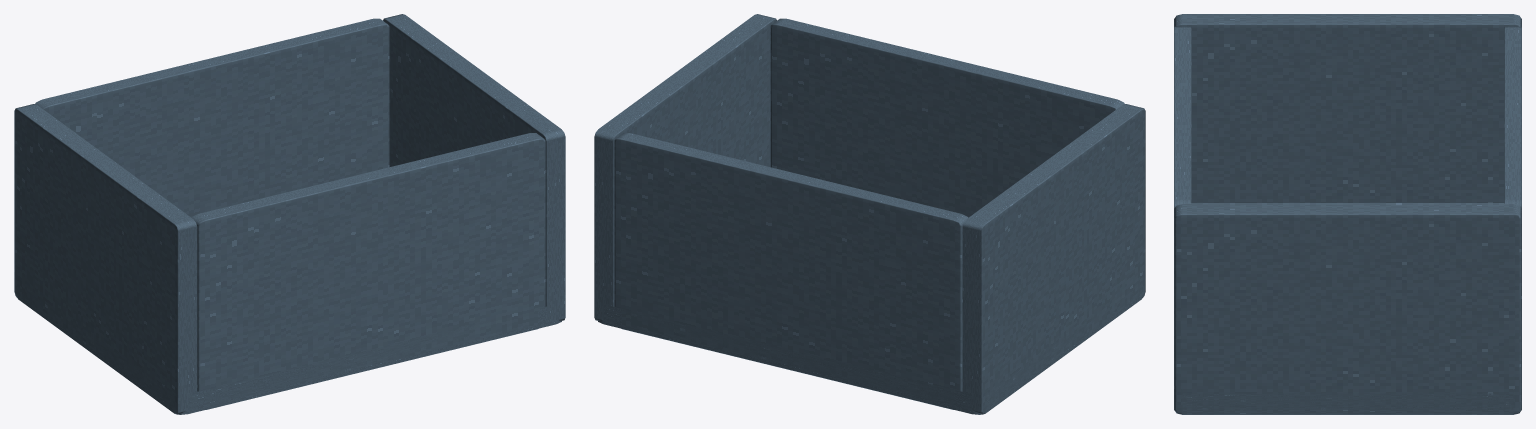
Rendered from disinfect-tray.glb.
3 views of the same model, side by side, from view 1: azimuth 30°, elevation 25°; view 2: azimuth 150°, elevation 25°; view 3: azimuth 270°, elevation 25° (orthographic). The views are drawn at different scales.
Visible parts, largest first — view 1: edge (×2), side (×2), bottom; view 2: edge (×2), side (×2), bottom; view 3: side (×2), bottom, edge (×2).
Boxes of the visible parts, <box> form: edge (×2): <box>35,18,546,409</box>; side (×2): <box>14,14,565,414</box>; bottom: <box>18,285,561,414</box>; edge (×2): <box>613,18,1124,409</box>; side (×2): <box>594,14,1145,414</box>; bottom: <box>598,284,1141,414</box>; side (×2): <box>1174,14,1521,414</box>; bottom: <box>1182,203,1513,414</box>; edge (×2): <box>1174,26,1521,208</box>.
Bounding box in the file's own units: 0.49 × 0.23 × 0.36.
1 material, 1 textured.
